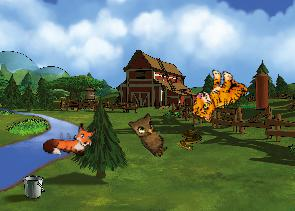fox: (42, 119, 97, 159)
owl: (124, 107, 177, 159)
tiger: (187, 63, 251, 131)
